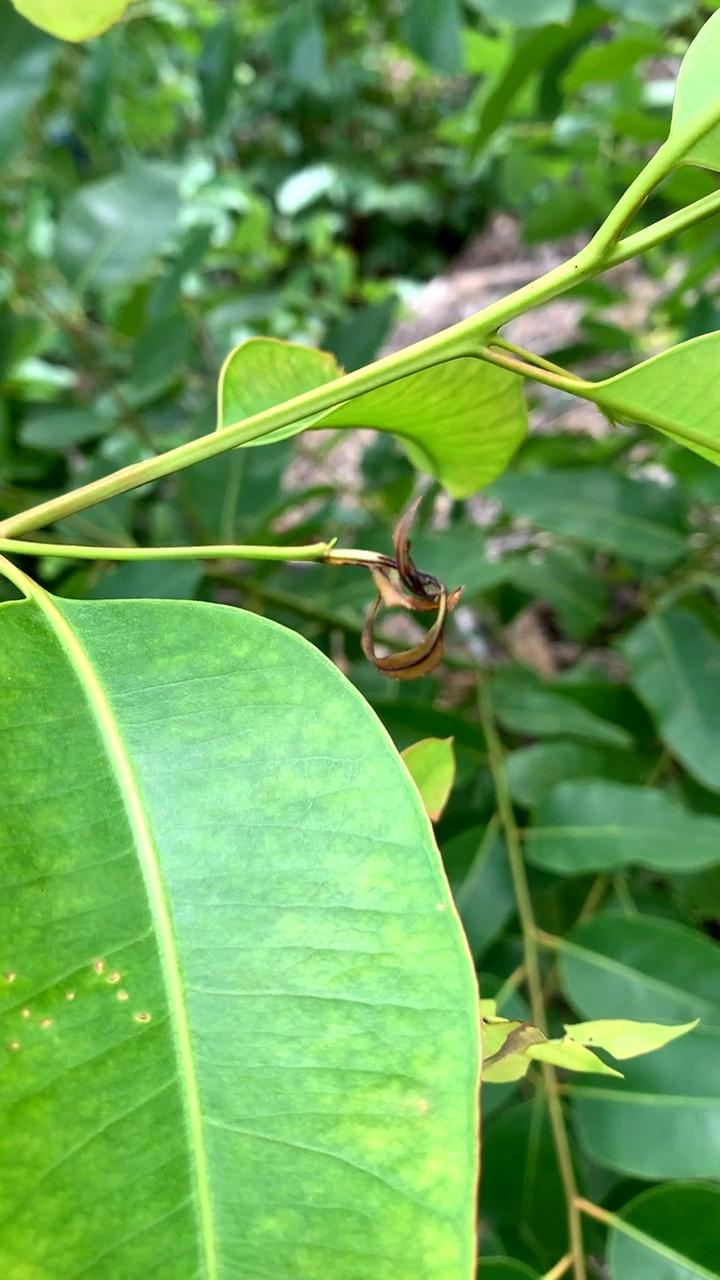Helopeltis-Withered Sprout: (325, 488, 493, 689)
